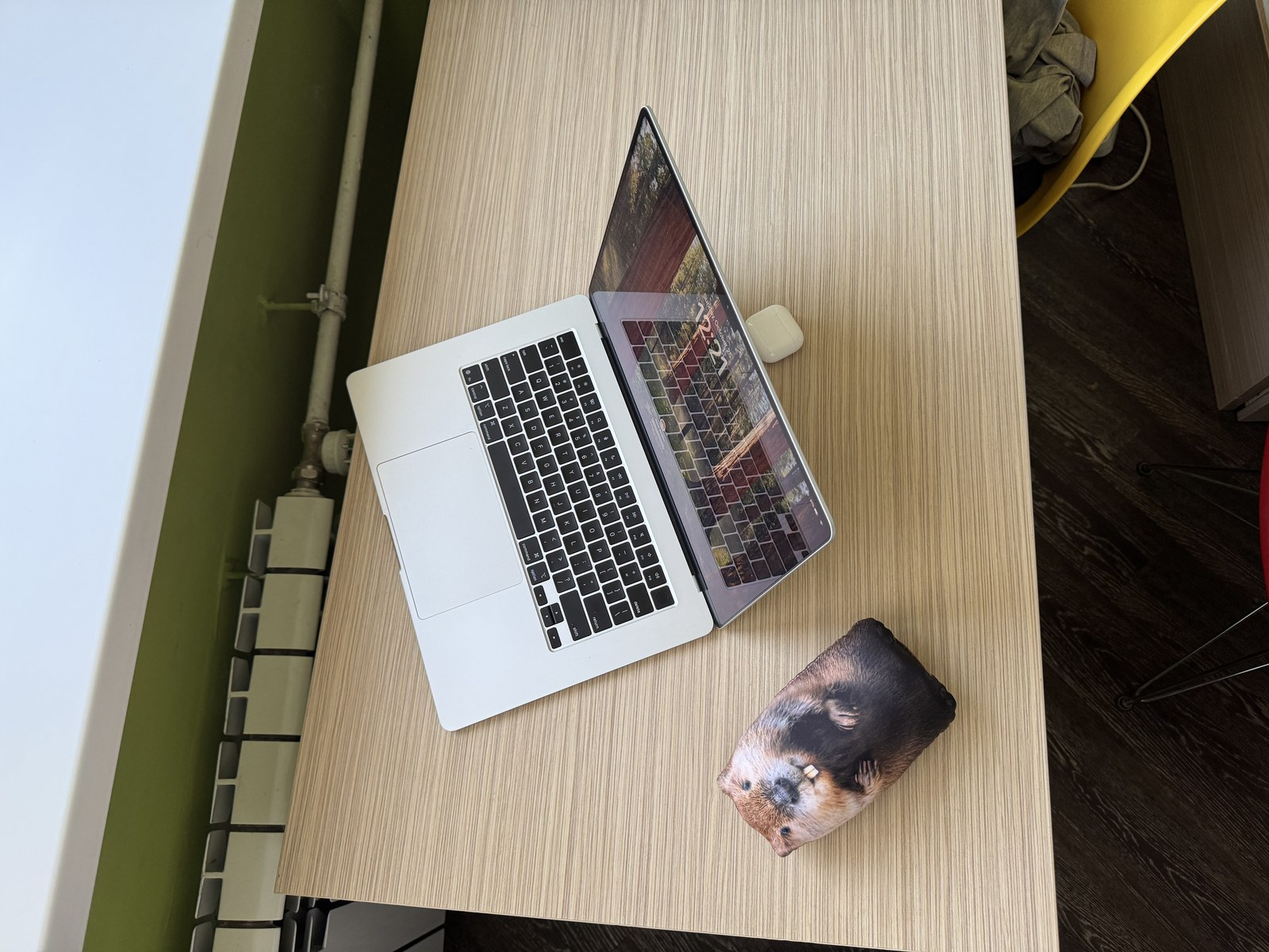laptop: (345, 104, 837, 732)
